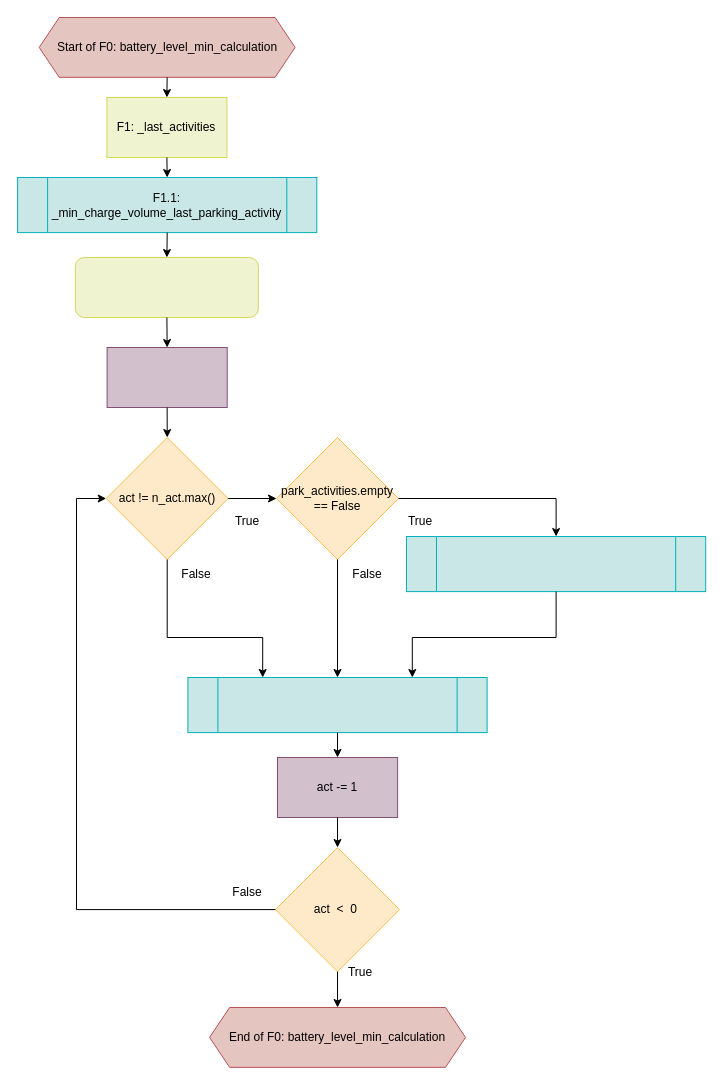
Some shapes in this 724 by 1085 pixel diagram are drawn without their labels. Here are the shapes that lost their labels. From the top down, the box of each, then its label:
(74, 256, 258, 318): n_acts = range(['park_id'].max(),-1,1)
(106, 346, 227, 408): act = ['park_id'].max()
(406, 536, 706, 592): F2.1: __calculate_min_battery_level_park
(187, 676, 487, 733): F2.2: __calculate_min_battery_level_trip
